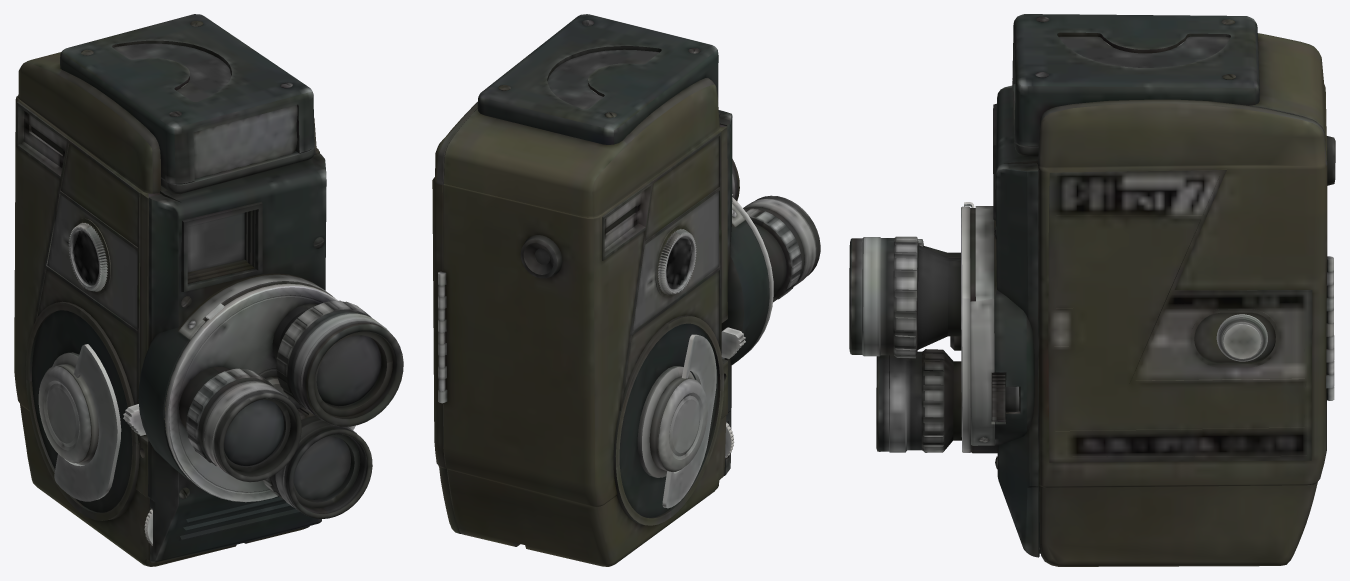
File: vintage_video_camera.glb
3 renders of one model, left to right at view 1: azimuth 30°, elevation 25°; view 2: azimuth 150°, elevation 25°; view 3: azimuth 270°, elevation 25°, orthographic. The views are drawn at different scales.
Parts seen in each view (by area): view 1: vintage_video_camera; view 2: vintage_video_camera; view 3: vintage_video_camera.
Boxes of the visible parts, box(x1,y1,x2,y2) form: vintage_video_camera: box(14, 14, 403, 566); vintage_video_camera: box(432, 14, 820, 566); vintage_video_camera: box(849, 14, 1335, 566).
Bounding box in the file's own units: 0.0712 × 0.145 × 0.1326.
2 materials, 2 textured.
